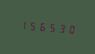five: (27, 18, 36, 33), (48, 20, 57, 34)
one: (17, 17, 26, 32)
six: (38, 19, 47, 33)
three: (58, 20, 67, 35)
zero: (68, 21, 77, 36)
